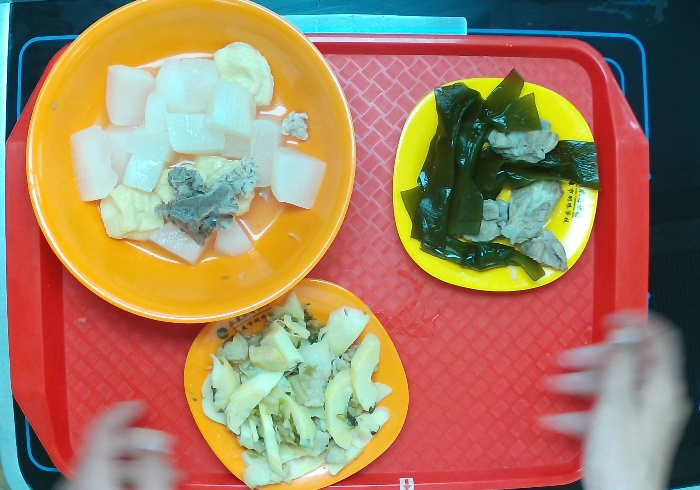YKMZ-Huang_Se_Fang_Die: (391, 76, 600, 295)
YKMZ-Ju_Se_Fang_Die: (181, 276, 413, 490)
YKMZ-Ju_Se_Tang_Wan: (23, 1, 357, 324)
